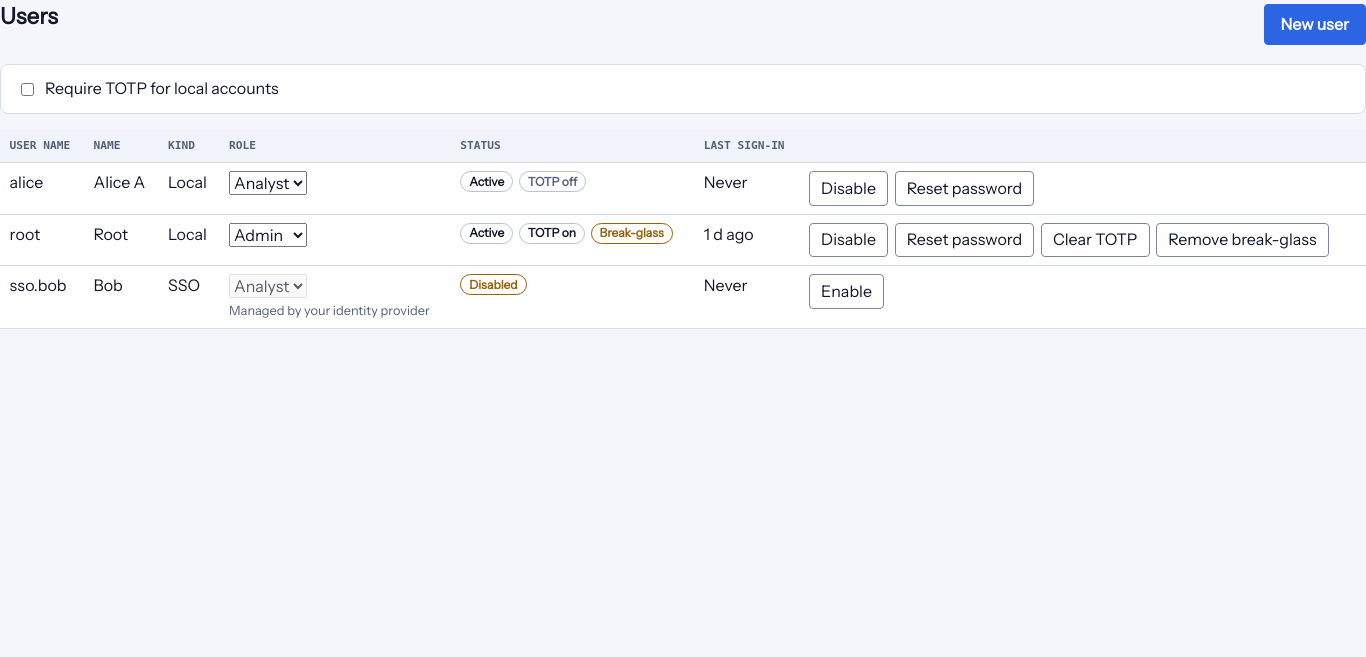
Test: UsersAdminPage › duplicate_user_name shows "That user name is taken."
Expected: the text "alice" is shown, [0,162,84,214]
Click the button "New user".
click(1315, 24)  # box [1264,4,1365,45]
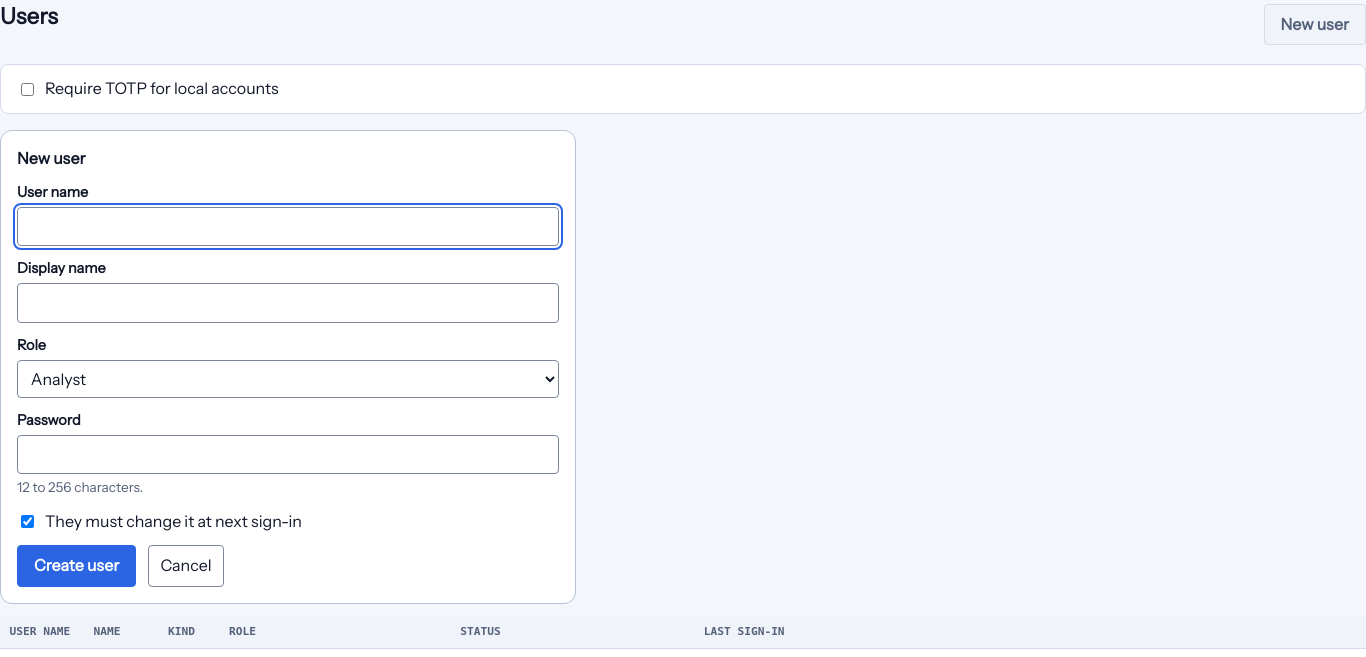
Type "alice" into the field labelled "User name".
click(288, 226); type("alice")  # box [17,207,559,246]
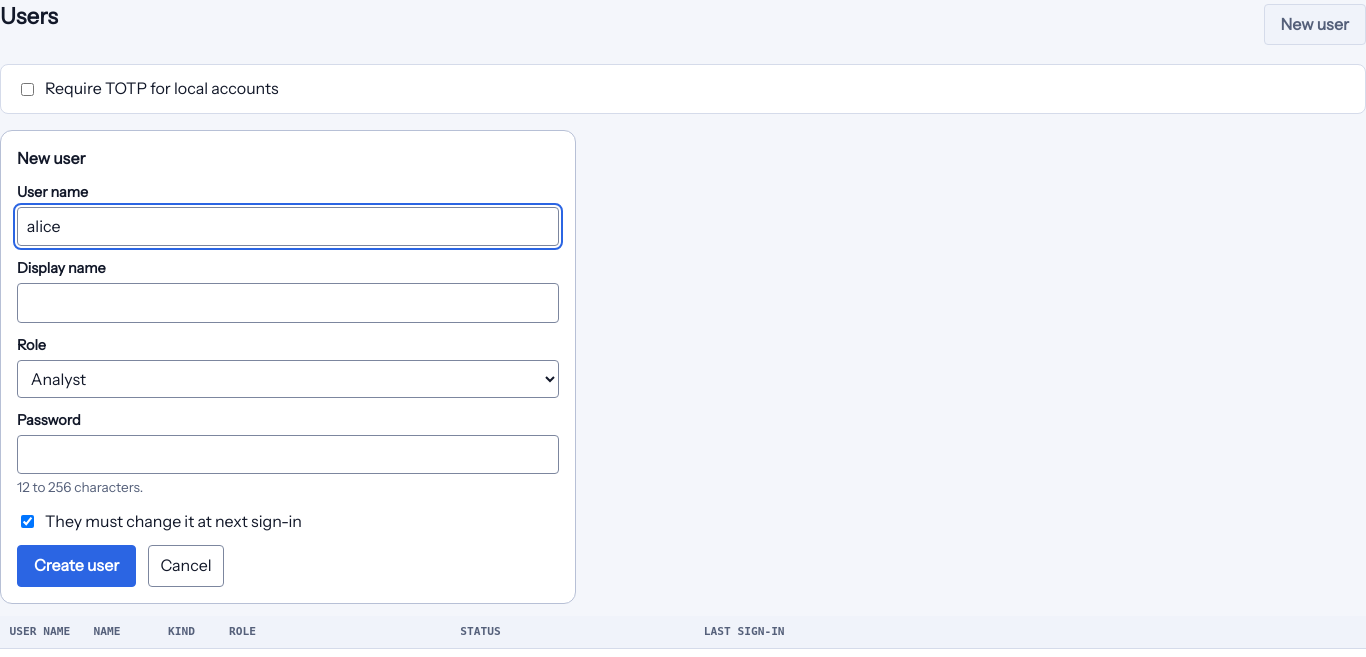
Type "Alice" into the field labelled "Display name".
click(288, 303); type("Alice")  # box [17,283,559,323]
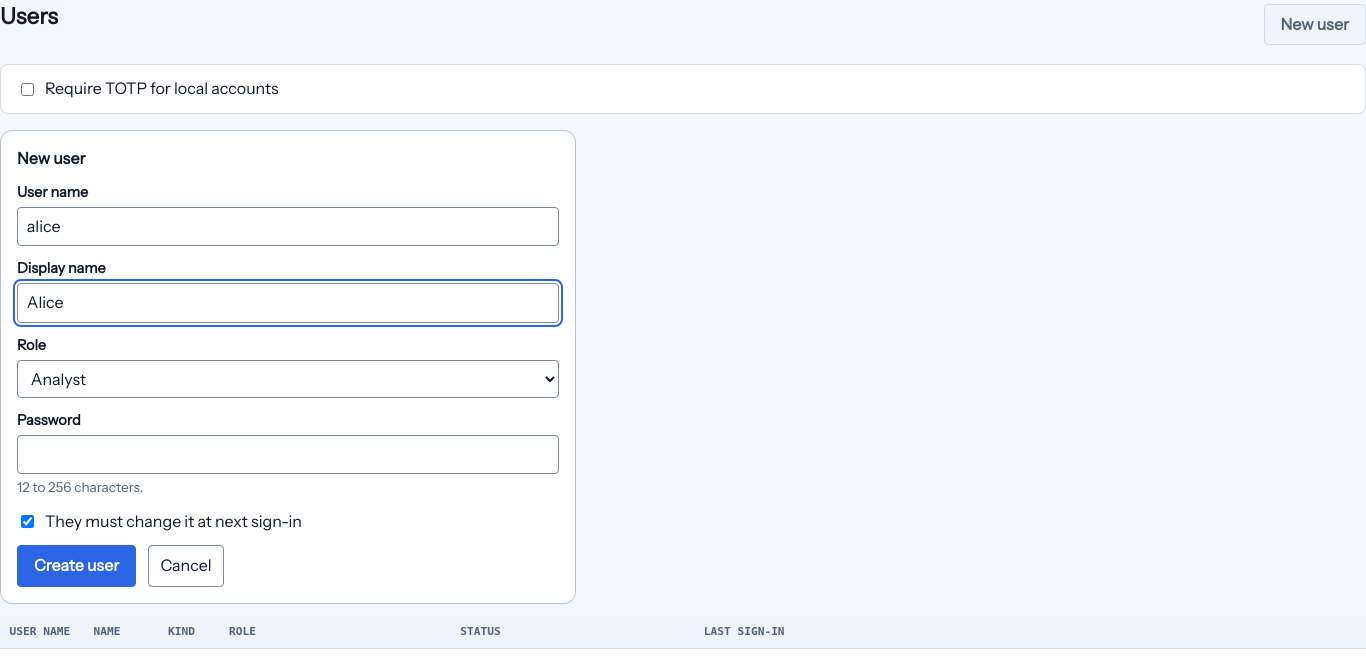
Type "twelve-chars-ok" into the password field labelled "Password".
click(288, 455); type("twelve-chars-ok")  # box [17,435,559,474]
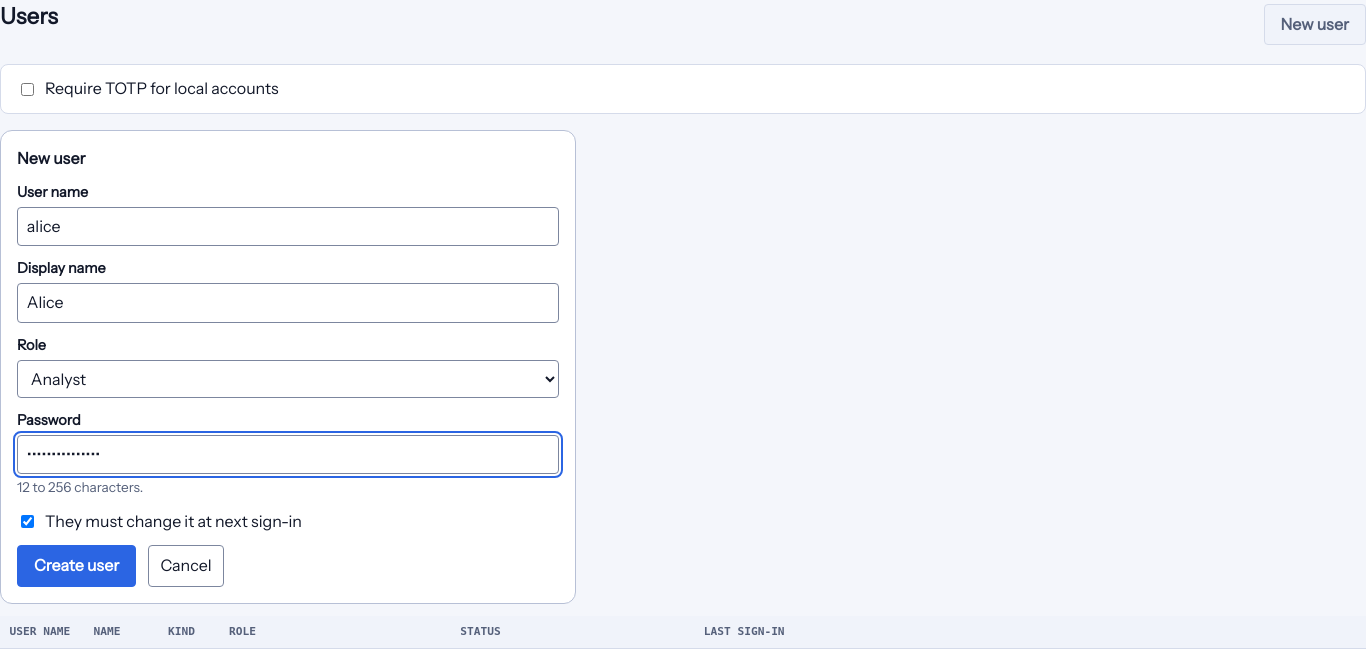
Click the button "Create user".
click(77, 566)  # box [17,545,136,586]
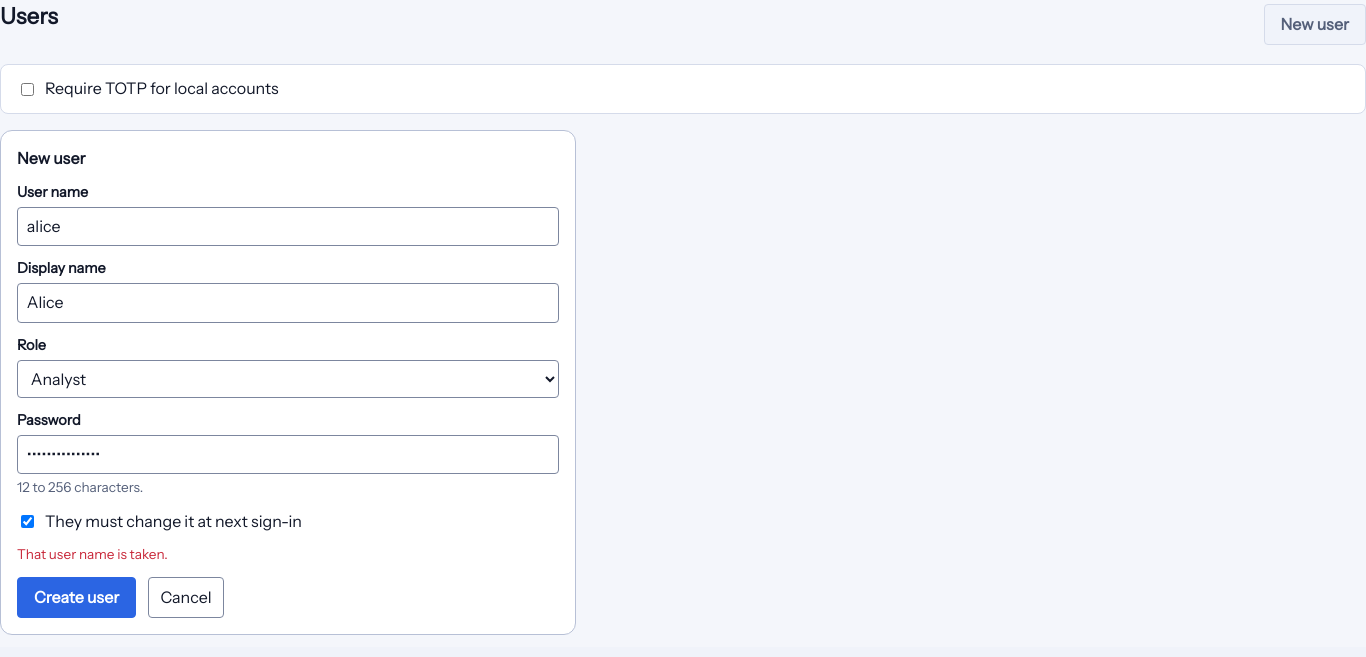
Result: the text "That user name is taken." is shown at [17,546,168,562]
